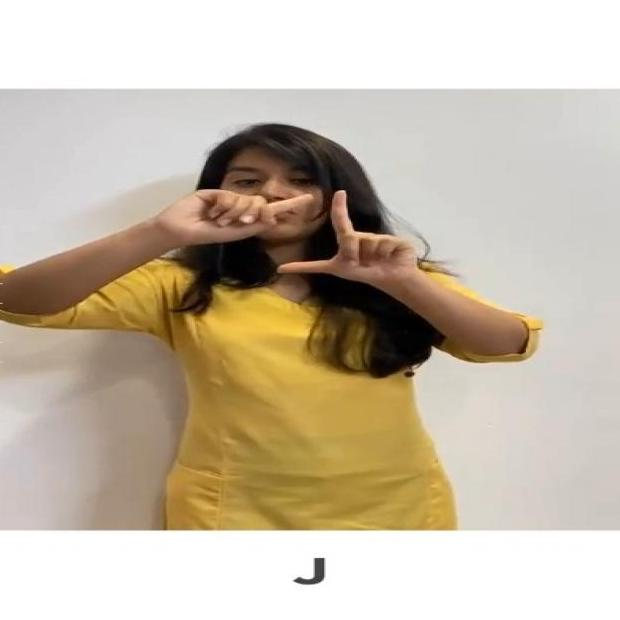I: (153, 172, 441, 302)
